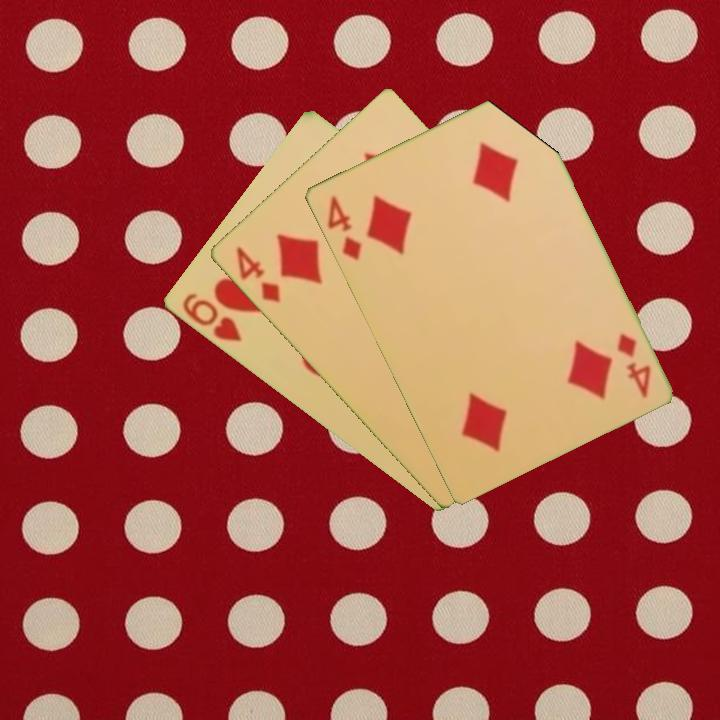4d: (232, 242, 283, 306), (323, 191, 364, 264), (613, 329, 653, 401)
6h: (178, 289, 244, 345)
